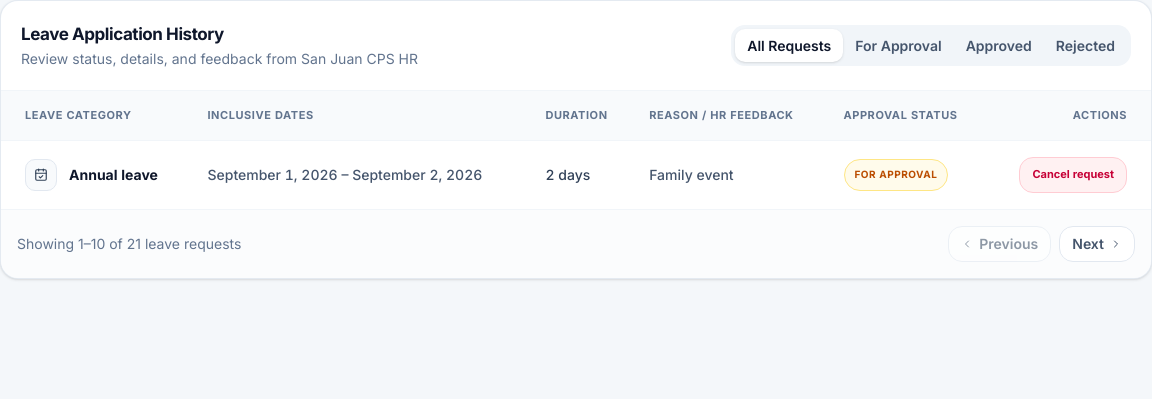
EmployeeLeaveList › cancels a pending request after confirmation and says so
The image size is (1152, 399).
Click the button "Cancel request".
click(1073, 175)  # box left=1019, top=157, right=1127, bottom=193
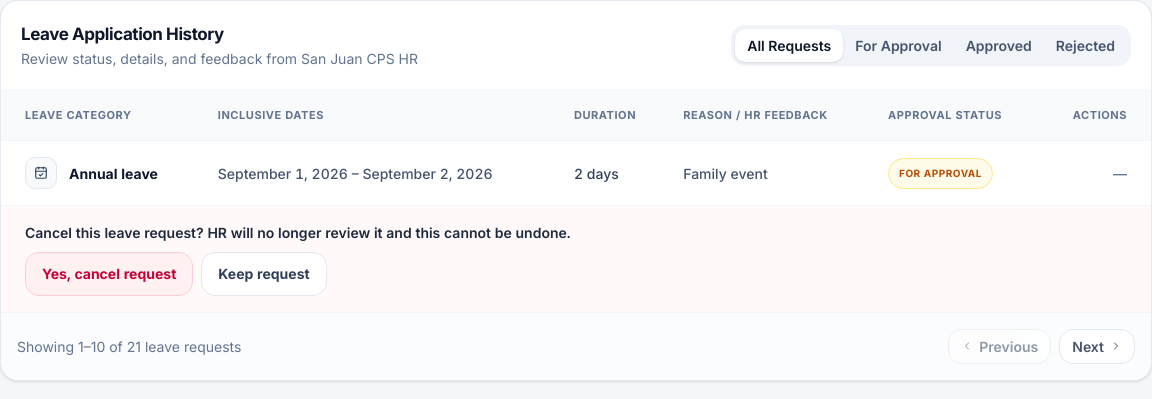
Click the button "Yes, cancel request".
click(109, 274)  # box left=25, top=252, right=193, bottom=296
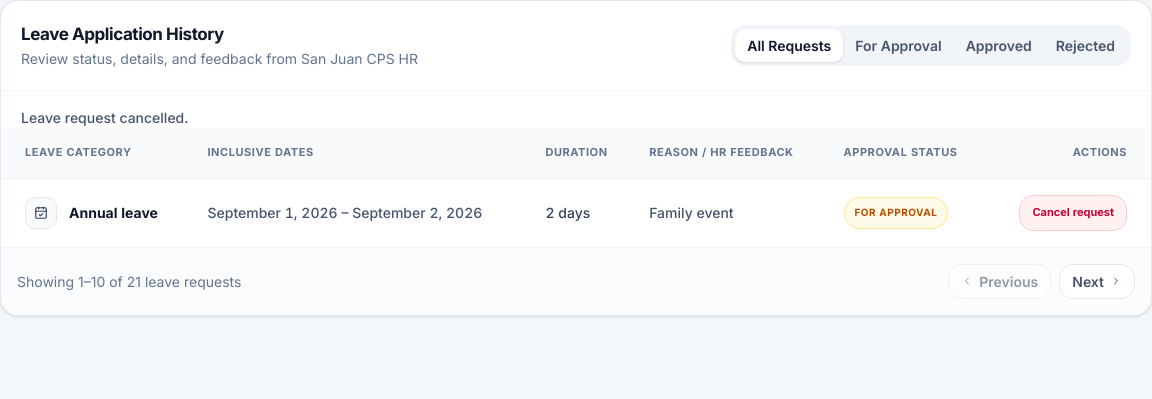
Check: the text "Leave request cancelled." is shown, box left=21, top=109, right=188, bottom=126
